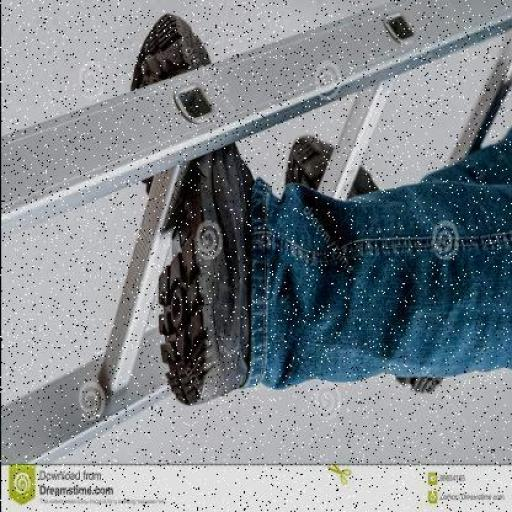safety_shoe: (136, 33, 254, 388)
